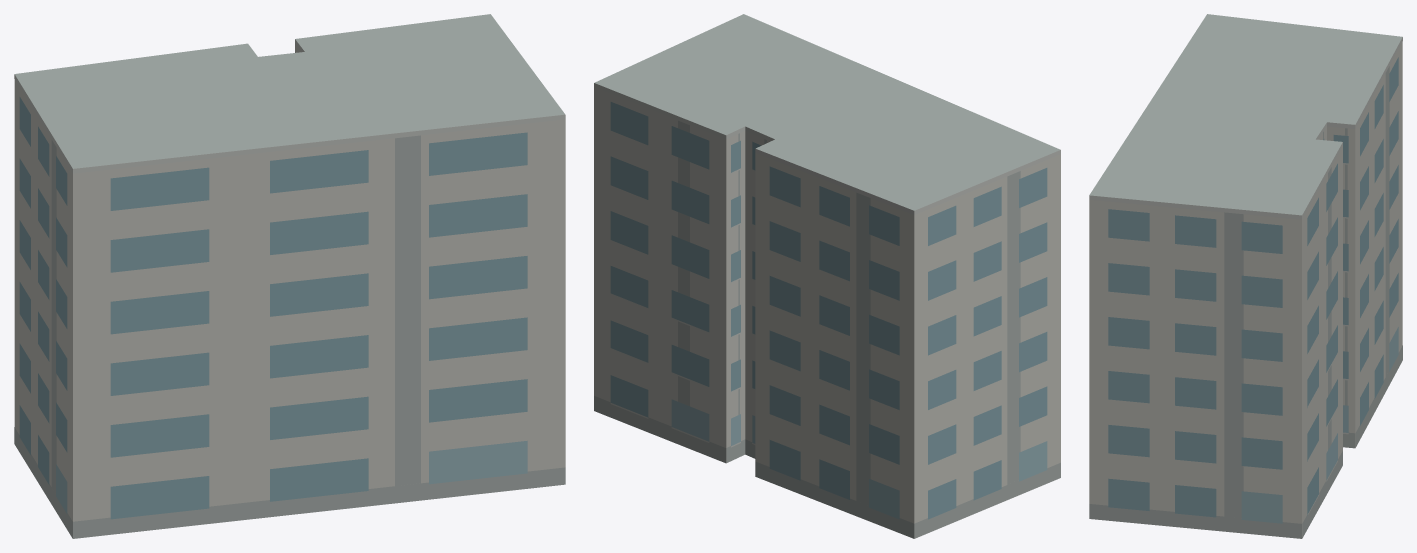
File: survey-upis-32806177.glb
3 renders of one model, left to right at view 1: azimuth 30°, elevation 25°; view 2: azimuth 150°, elevation 25°; view 3: azimuth 270°, elevation 25°, orthographic. The views are drawn at different scales.
Visible parts, largest first — view 1: survey-upis-32806177.tmp; view 2: survey-upis-32806177.tmp; view 3: survey-upis-32806177.tmp.
Boxes of the visible parts, bbox=[...] form: survey-upis-32806177.tmp: bbox=[14, 14, 565, 538]; survey-upis-32806177.tmp: bbox=[594, 14, 1060, 538]; survey-upis-32806177.tmp: bbox=[1089, 14, 1402, 538].
Bounding box in the file's own units: 24.44 × 18.3 × 16.09.
